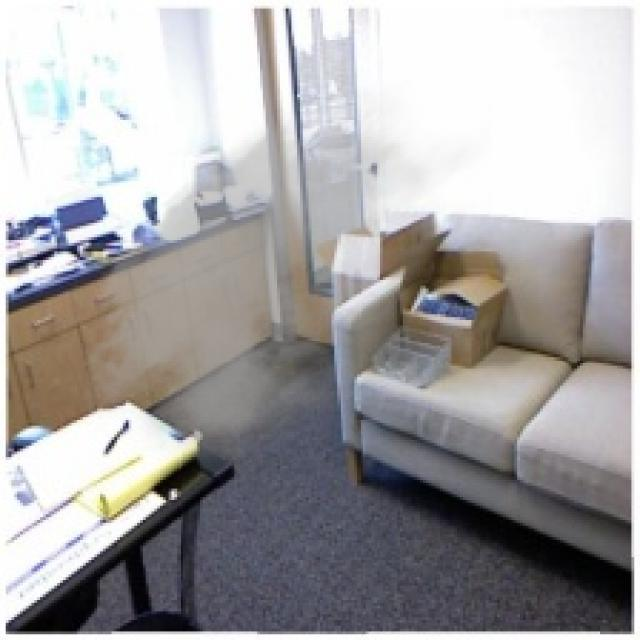Smoke: (69, 77, 492, 480)
